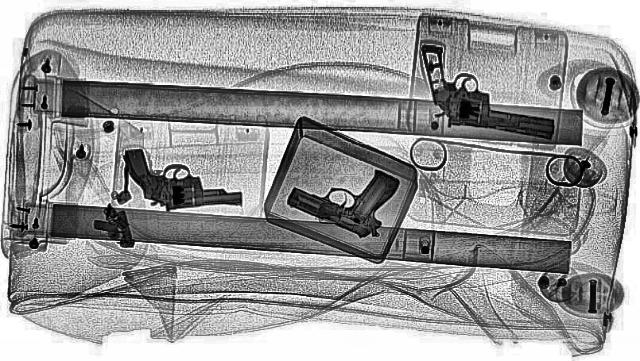Gun: (420, 37, 556, 144), (270, 155, 432, 237), (120, 142, 242, 214)
